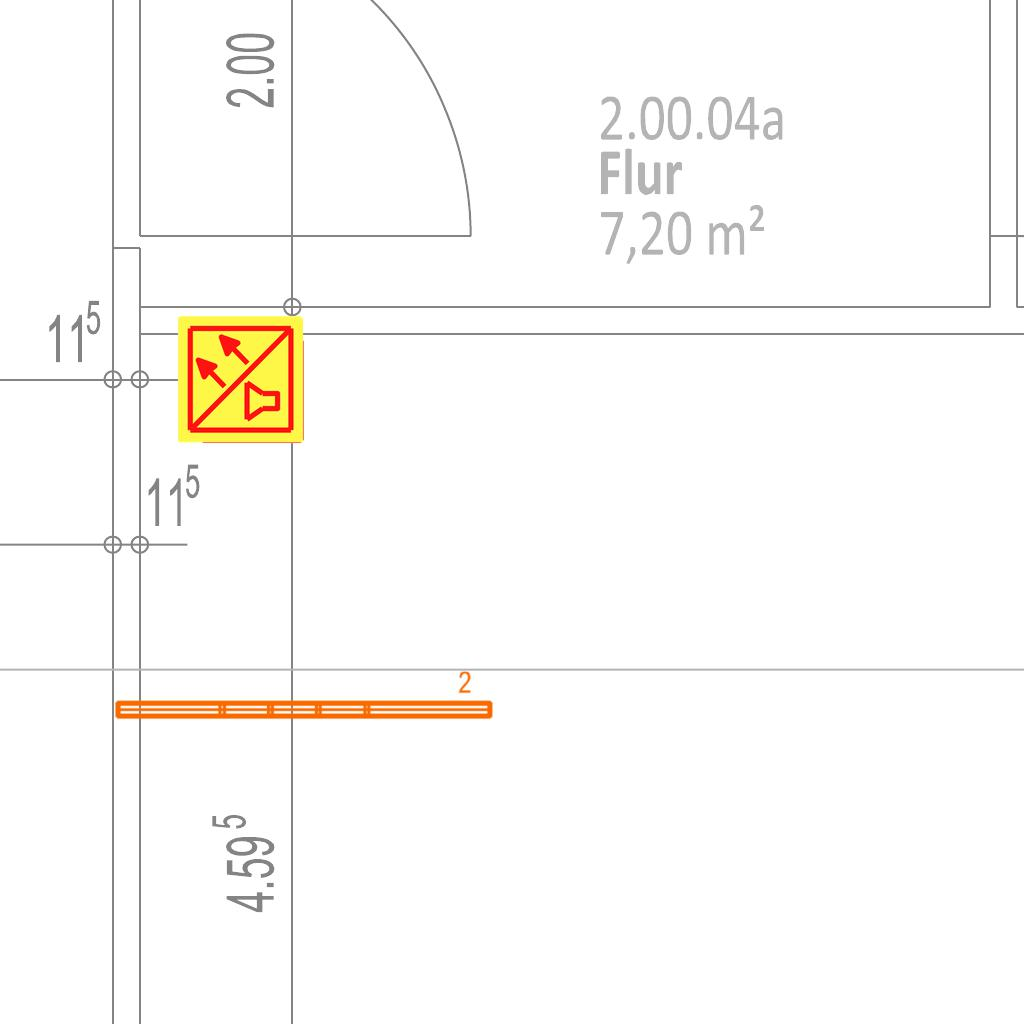Ambulanz_Pendelleuchte_LED: (110, 669, 497, 725)
OKW_Multisensormelder_(Kombination_optischer_Rauch-Kahlenmonoxid_Waerme-Melder): (175, 313, 307, 445)
